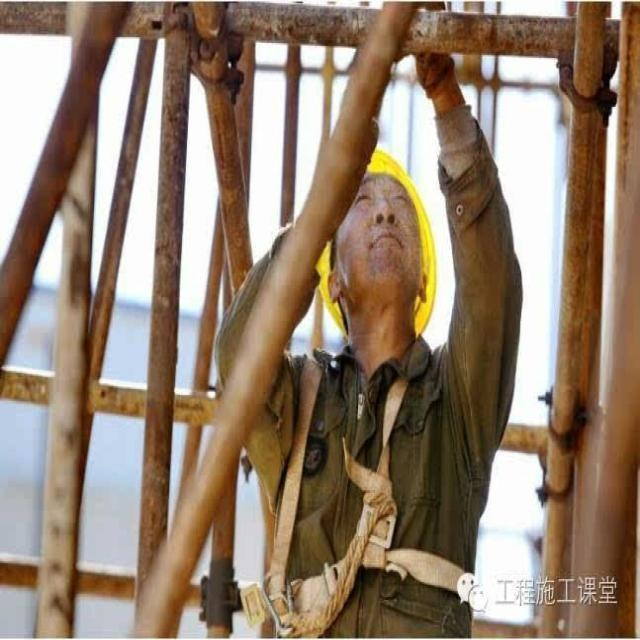Arnes_seguridad: (238, 355, 458, 638)
